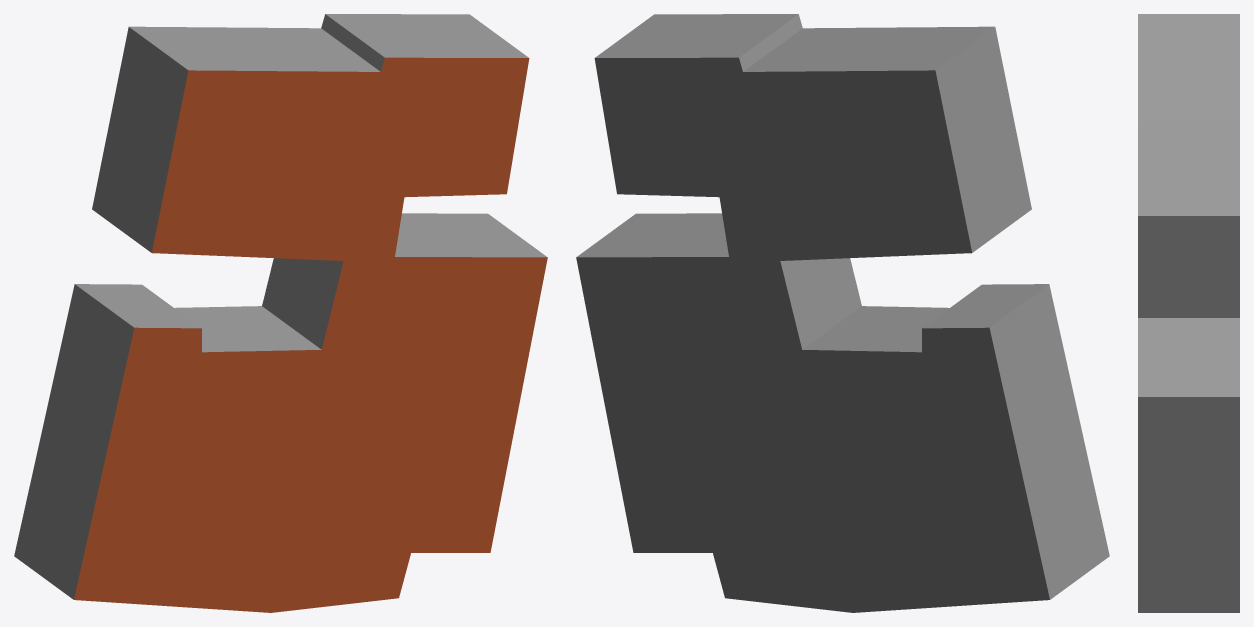
File: construction_2844_assumed_A_Casa_h6m.obj
3 views of the same model, side by side, from view 1: azimuth 30°, elevation 25°; view 2: azimuth 150°, elevation 25°; view 3: azimuth 270°, elevation 25° (orthographic). The views are drawn at different scales.
Parts seen in each view (by area): view 1: construction_2844_assumed_A_Casa; view 2: construction_2844_assumed_A_Casa; view 3: construction_2844_assumed_A_Casa.
Part boxes in pixels (x1,y1,x2,y2): construction_2844_assumed_A_Casa: (14,14,547,612); construction_2844_assumed_A_Casa: (576,14,1109,612); construction_2844_assumed_A_Casa: (1138,14,1239,612).
Bounding box in the file's own units: 27.47 × 32.08 × 6.
